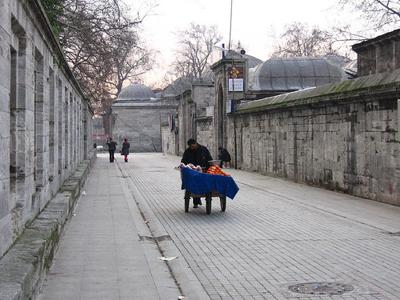person: (181, 137, 216, 211)
